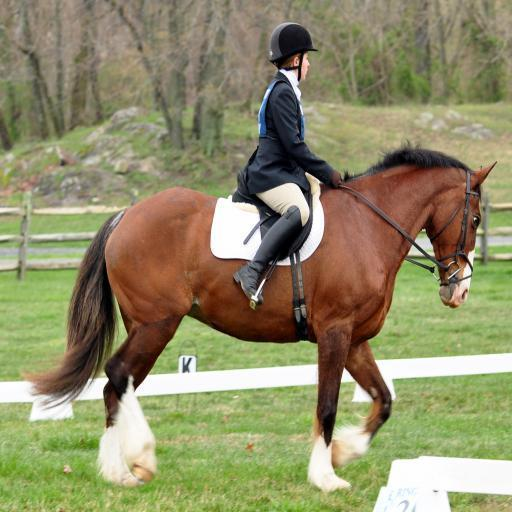horse: (20, 137, 500, 488)
